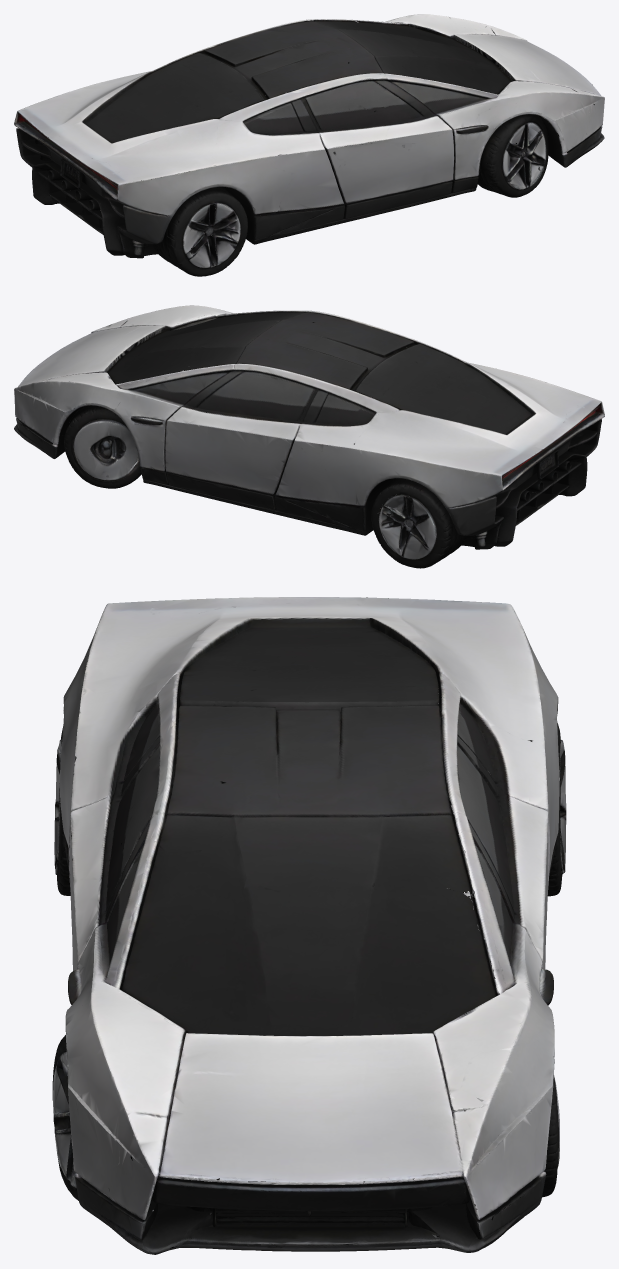
The model's file is roadster-showroom.glb.
The picture shows the model from 3 angles, top to bottom: view 1: azimuth 30°, elevation 25°; view 2: azimuth 150°, elevation 25°; view 3: azimuth 270°, elevation 25°; orthographic projection. The views are drawn at different scales.
Parts seen in each view (by area): view 1: RoadsterBody, wheel_rear_right, wheel_front_right; view 2: RoadsterBody, wheel_rear_left, wheel_front_left; view 3: RoadsterBody, wheel_front_right, wheel_rear_left, wheel_rear_right, wheel_front_left.
Part boxes in pixels (x1=…): RoadsterBody: x1=14, y1=14, x2=604, y2=258; wheel_rear_right: x1=152, y1=187, x2=247, y2=276; wheel_front_right: x1=478, y1=114, x2=559, y2=197; RoadsterBody: x1=14, y1=305, x2=604, y2=549; wheel_rear_left: x1=371, y1=478, x2=466, y2=568; wheel_front_left: x1=58, y1=405, x2=140, y2=488; RoadsterBody: x1=60, y1=597, x2=559, y2=1254; wheel_front_right: x1=52, y1=1035, x2=78, y2=1200; wheel_rear_left: x1=547, y1=723, x2=566, y2=896; wheel_rear_right: x1=54, y1=726, x2=70, y2=895; wheel_front_left: x1=542, y1=1075, x2=559, y2=1197.
Bounding box in the file's own units: 4.7 × 1.24 × 2.04.
Materials: 1 (1 with a texture image).
